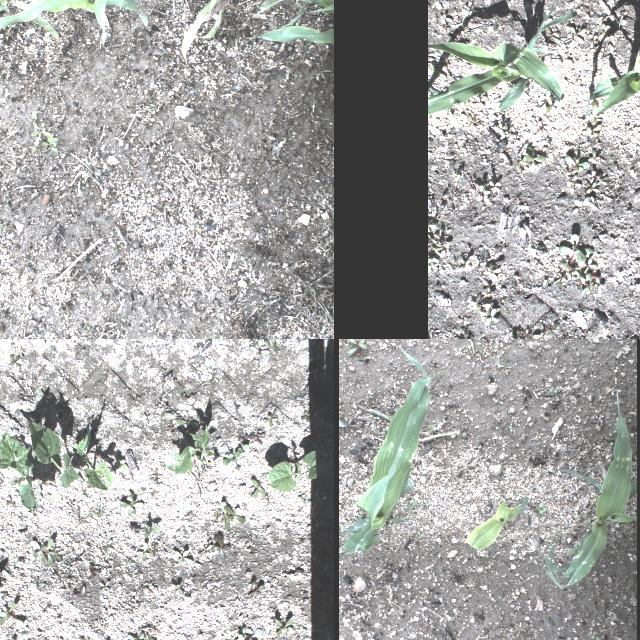crop: (339, 346, 453, 554), (530, 376, 634, 590), (427, 0, 576, 114), (0, 0, 148, 46), (580, 27, 640, 124), (181, 0, 269, 63), (245, 0, 332, 43), (461, 498, 531, 550), (0, 425, 42, 511), (27, 420, 79, 488), (72, 427, 114, 489), (165, 426, 213, 474), (0, 0, 57, 39), (266, 450, 316, 492)
weed: (552, 233, 592, 283), (427, 216, 449, 274), (82, 492, 114, 530), (515, 143, 545, 173), (466, 293, 489, 321), (30, 110, 50, 140), (577, 272, 603, 294), (118, 492, 142, 514), (529, 321, 558, 339), (563, 154, 589, 174), (340, 339, 370, 356), (213, 533, 231, 561), (65, 504, 85, 528), (46, 538, 62, 566), (224, 505, 246, 525), (362, 406, 386, 422), (0, 600, 15, 625), (274, 618, 294, 636), (135, 542, 153, 562), (29, 540, 45, 562), (502, 328, 533, 339), (41, 136, 58, 154), (428, 64, 447, 80), (252, 478, 266, 499), (482, 262, 500, 278), (566, 174, 582, 192), (569, 25, 585, 43), (544, 25, 560, 43), (543, 96, 561, 112), (474, 182, 490, 200), (482, 308, 500, 324), (532, 499, 550, 515), (457, 339, 475, 355), (231, 627, 253, 640), (172, 550, 192, 564), (218, 501, 228, 529), (249, 339, 269, 353), (427, 328, 452, 339), (528, 344, 544, 360), (400, 498, 416, 514), (142, 523, 160, 537), (581, 124, 601, 136), (539, 88, 549, 112), (491, 122, 507, 136), (264, 408, 278, 424), (28, 576, 44, 590), (247, 582, 263, 596), (234, 443, 250, 457), (583, 258, 597, 272), (222, 452, 236, 466), (546, 384, 560, 398), (458, 254, 470, 270), (584, 170, 600, 182), (598, 23, 610, 39), (446, 34, 454, 58), (14, 618, 26, 634), (249, 431, 265, 443), (458, 326, 472, 339), (588, 628, 603, 640), (586, 150, 600, 162), (472, 95, 486, 107), (300, 410, 314, 422), (265, 339, 277, 353), (197, 544, 211, 556), (8, 354, 20, 368), (3, 494, 17, 506), (502, 423, 516, 435), (127, 631, 145, 640), (466, 114, 476, 130), (114, 458, 128, 469), (488, 179, 500, 191), (174, 418, 198, 424), (98, 580, 110, 592), (374, 370, 386, 382), (585, 182, 599, 192), (588, 34, 598, 48), (438, 13, 452, 23), (298, 494, 312, 504), (190, 365, 200, 379), (170, 584, 184, 594), (481, 286, 494, 296), (590, 98, 598, 114), (160, 406, 172, 416), (415, 526, 425, 538), (593, 114, 603, 125), (104, 540, 112, 552), (79, 182, 89, 190), (596, 176, 606, 184), (562, 79, 574, 85), (145, 632, 153, 640), (460, 98, 470, 104), (572, 76, 582, 82), (82, 325, 90, 331), (0, 86, 8, 91), (328, 248, 334, 254), (115, 242, 123, 246), (20, 260, 28, 264), (79, 339, 89, 342), (437, 2, 441, 8), (3, 78, 7, 82), (294, 322, 298, 324)
